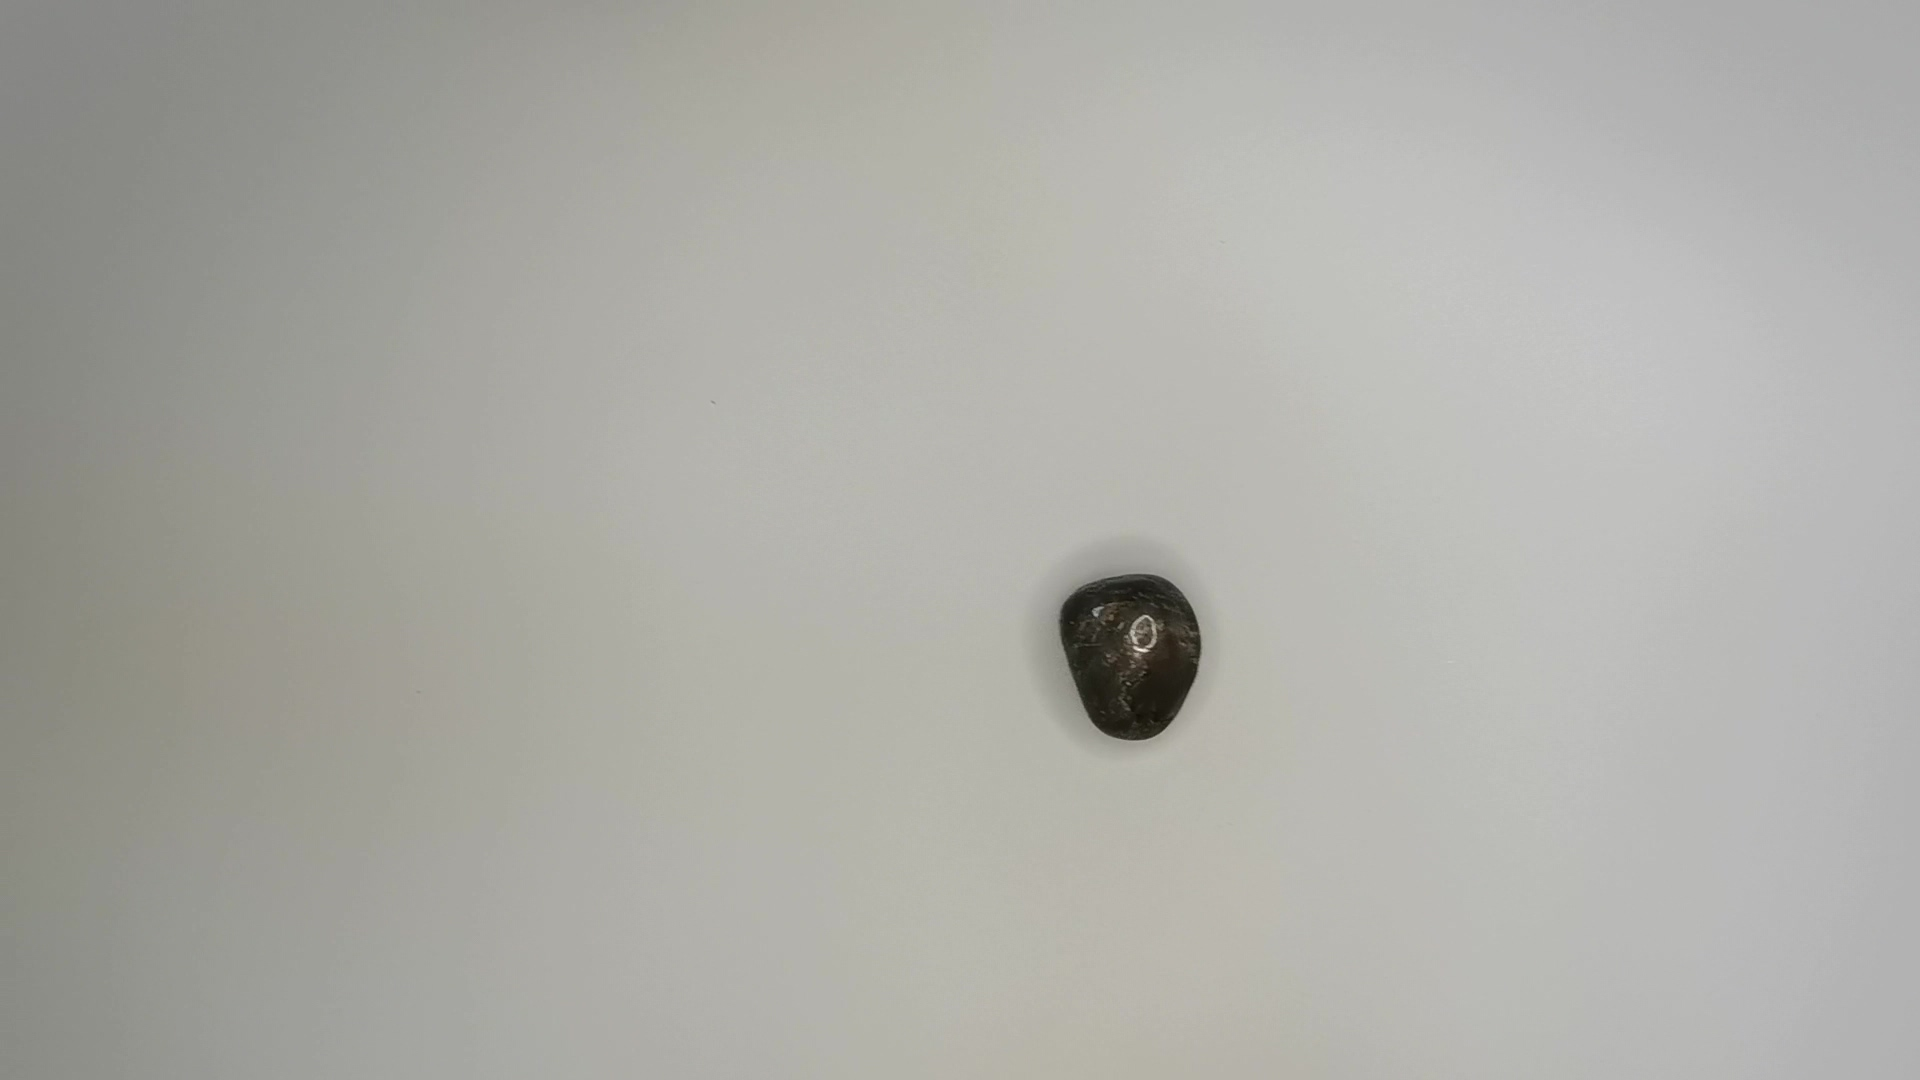ceramic: (1058, 572, 1211, 742)
